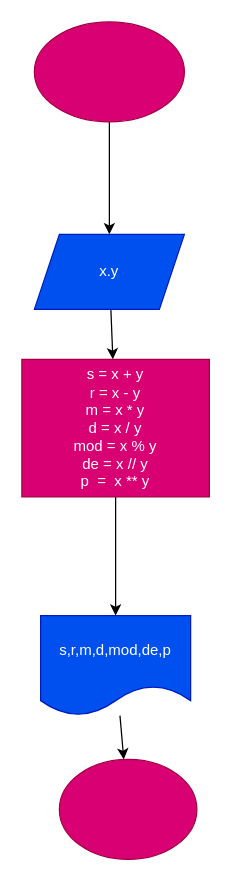
Image size: 231x881. Some labels were removed from this diagram. Here are the shapes that lost their labels. From the top down, the centre of each, then its label:
At (108,71): "INICIO".
At (127,808): "FIN".
